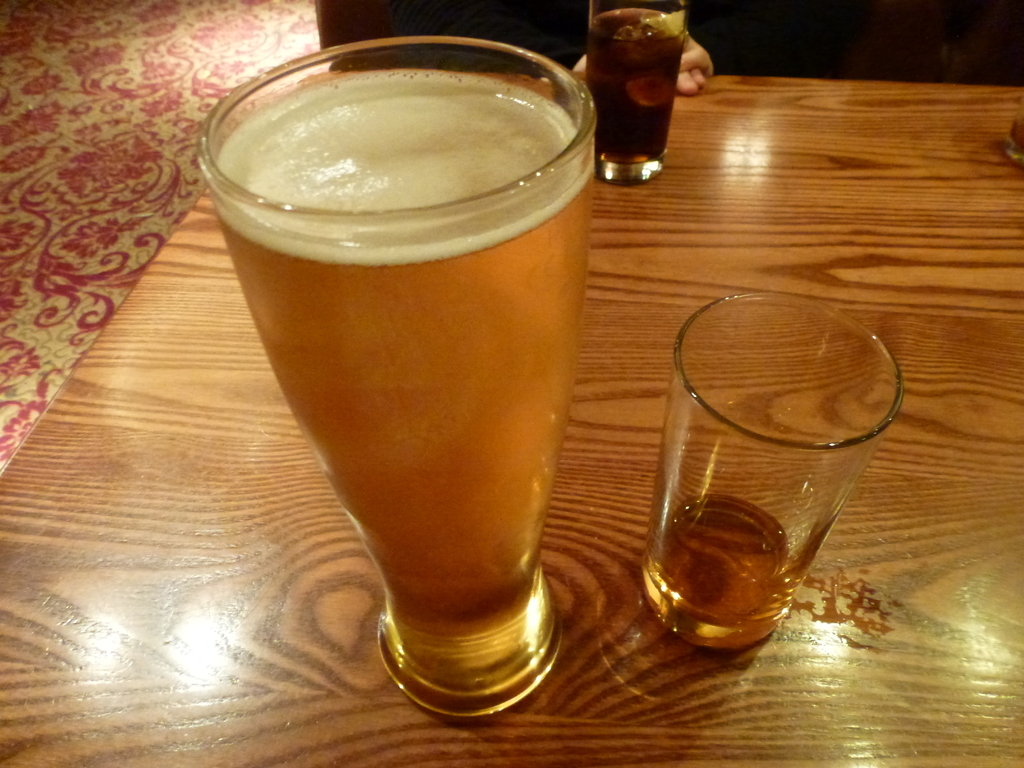Beer: (213, 67, 589, 716)
